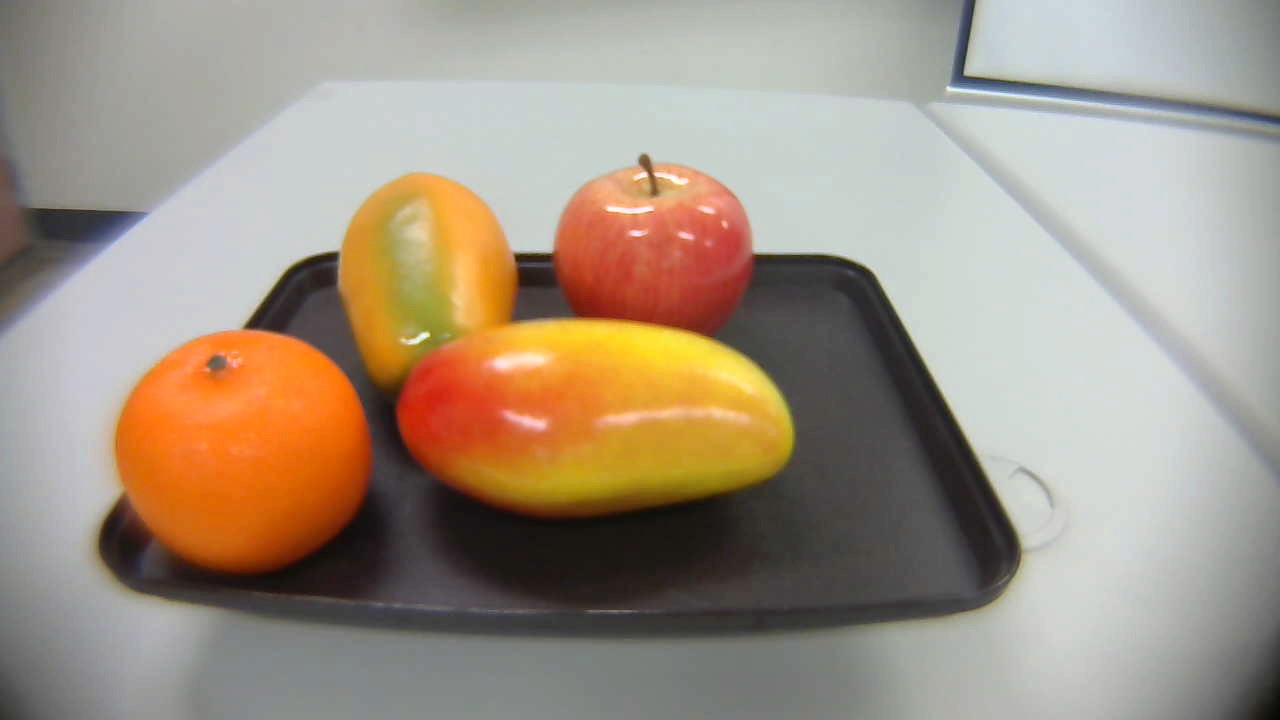orange: (110, 324, 378, 576)
papya: (320, 168, 523, 413)
red apple: (545, 156, 755, 343)
red mango: (395, 313, 815, 541)
